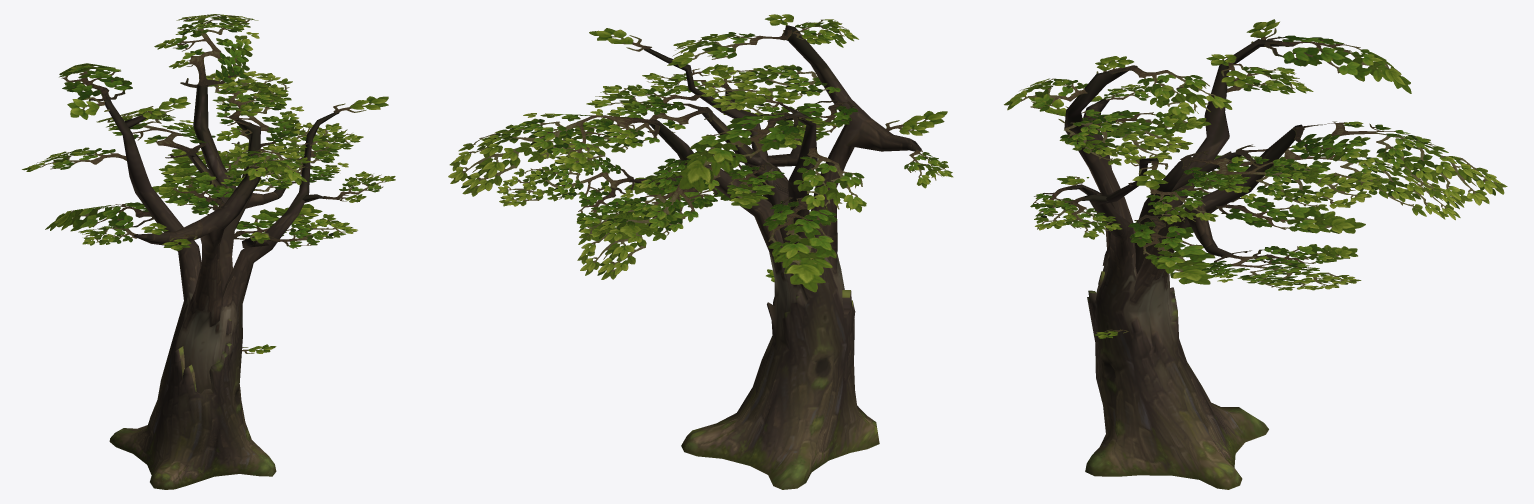
Rendered from shrine_plant001_01.FBX.
3 renders of one model, left to right at view 1: azimuth 30°, elevation 25°; view 2: azimuth 150°, elevation 25°; view 3: azimuth 270°, elevation 25°, orthographic. The views are drawn at different scales.
Visible parts, largest first — view 1: shrine_plant001_01; view 2: shrine_plant001_01; view 3: shrine_plant001_01.
Part boxes in pixels (x1,y1,x2,y2): shrine_plant001_01: (22,14,395,489); shrine_plant001_01: (448,14,953,489); shrine_plant001_01: (1004,19,1507,489).
Size of the model in its own units: 437 by 436 by 512.
